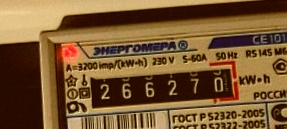0: (212, 75, 225, 93)
2: (97, 82, 112, 101), (166, 78, 179, 96)
6: (120, 81, 134, 100), (143, 80, 157, 99)
7: (189, 76, 201, 95)
screen: (79, 57, 245, 118)
